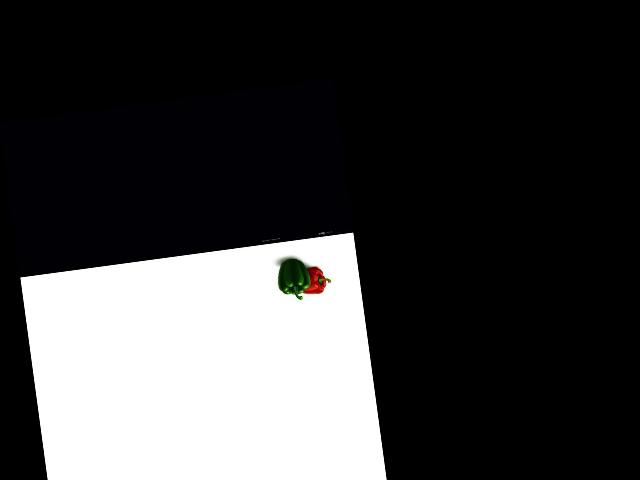bell_pepper: (298, 266, 332, 299)
